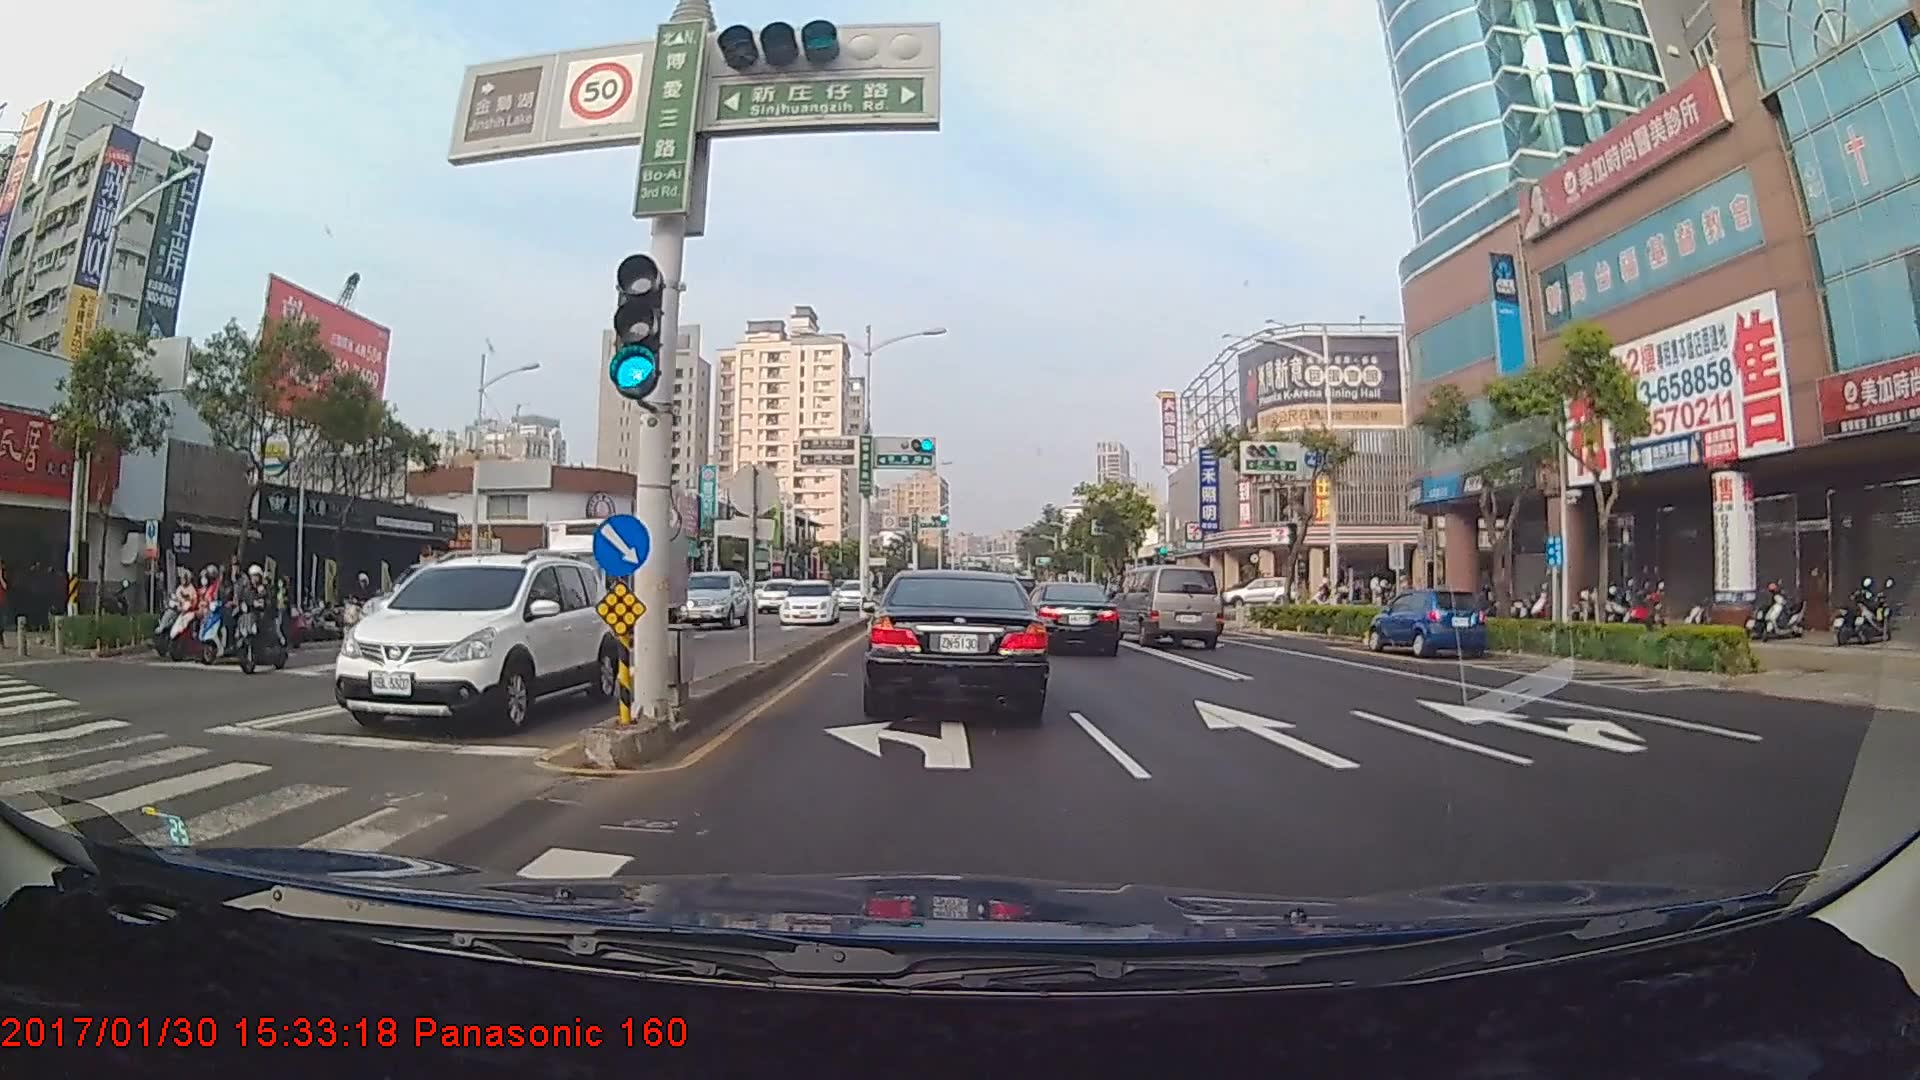rider: (226, 559, 296, 681), (197, 561, 277, 663), (166, 562, 245, 662), (156, 566, 216, 656)
vehicle: (337, 551, 609, 730), (869, 563, 1046, 719), (530, 513, 679, 654), (1114, 565, 1222, 649), (1369, 585, 1486, 656), (1019, 573, 1120, 655), (674, 564, 748, 630), (773, 574, 835, 625), (1233, 577, 1284, 606), (754, 577, 797, 610), (833, 576, 867, 611)
